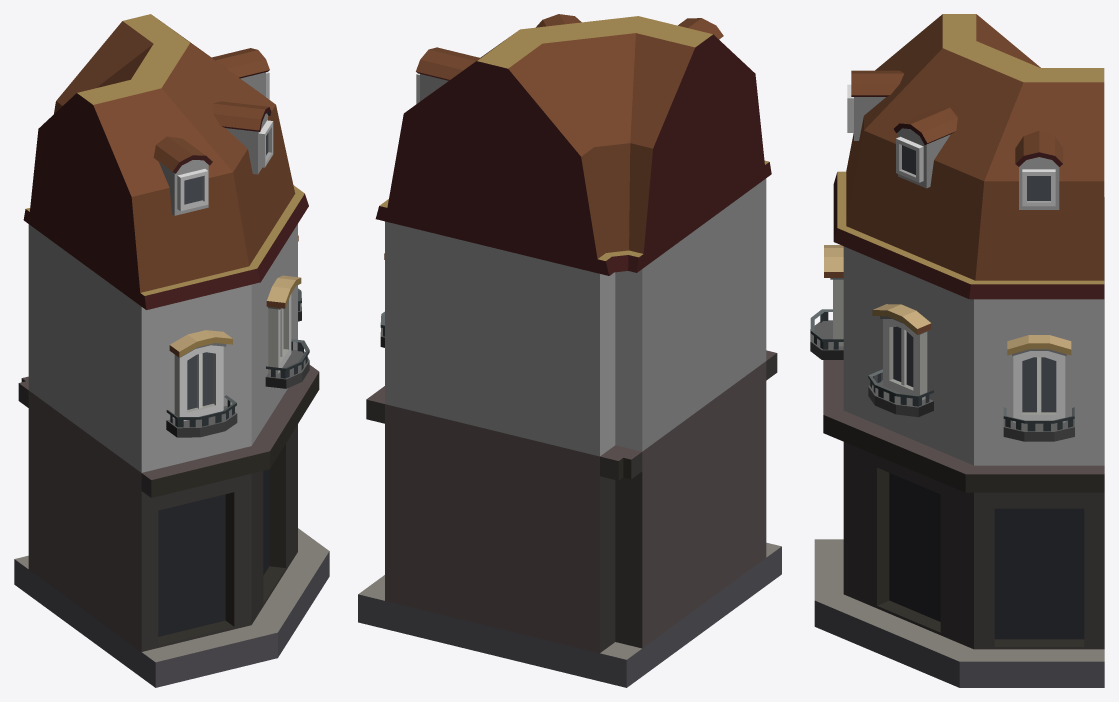
File: TB_CITY_BD_R_RCorner_2_C.FBX
The picture shows the model from 3 angles, left to right: view 1: azimuth 30°, elevation 25°; view 2: azimuth 150°, elevation 25°; view 3: azimuth 270°, elevation 25°; orthographic projection. The views are drawn at different scales.
Visible parts, largest first — view 1: TB_CITY_BD_R_RCorner_2_C; view 2: TB_CITY_BD_R_RCorner_2_C; view 3: TB_CITY_BD_R_RCorner_2_C.
Part boxes in pixels (x1,y1,x2,y2): TB_CITY_BD_R_RCorner_2_C: (14,14,329,687); TB_CITY_BD_R_RCorner_2_C: (358,14,781,687); TB_CITY_BD_R_RCorner_2_C: (810,14,1104,687).
Size of the model in its own units: 8.11 by 16.78 by 8.11.
